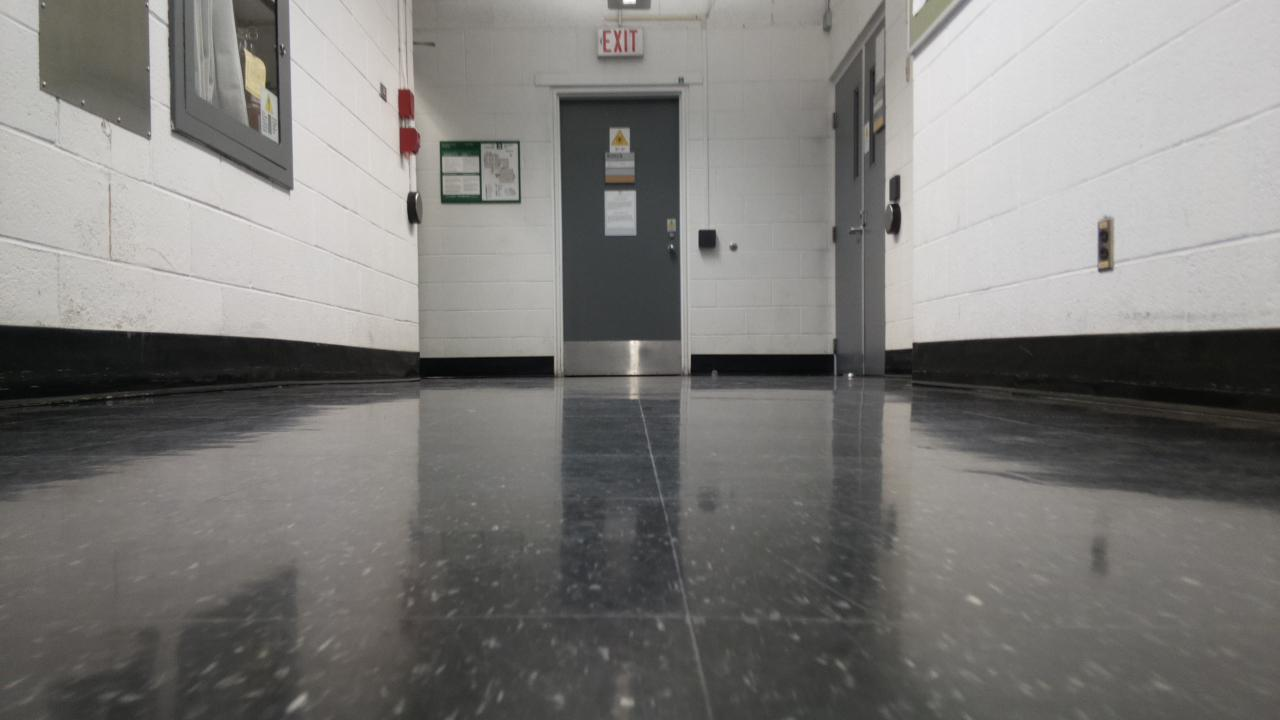door: (561, 98, 681, 375)
sign: (440, 141, 519, 203), (598, 27, 643, 57), (605, 152, 634, 181), (609, 127, 629, 151)
